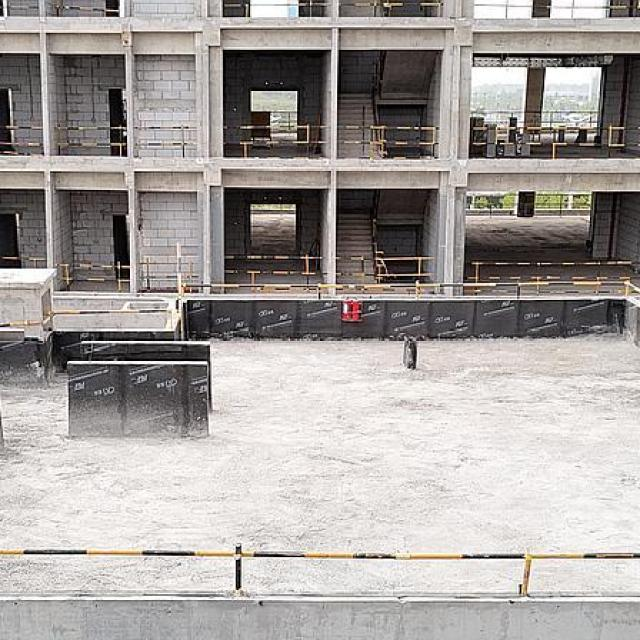Guardrail: (1, 546, 639, 598), (181, 278, 640, 302), (471, 125, 626, 158), (0, 308, 173, 333), (335, 254, 435, 297), (465, 260, 639, 283), (337, 121, 437, 160), (222, 122, 329, 158), (224, 252, 327, 285), (52, 126, 127, 157), (56, 261, 131, 292), (132, 125, 198, 158), (224, 0, 334, 19), (338, 0, 442, 20), (474, 2, 640, 12), (138, 262, 198, 289), (464, 192, 519, 214), (541, 110, 599, 127), (533, 193, 591, 210), (471, 109, 526, 124), (53, 4, 120, 14), (1, 255, 48, 268), (0, 141, 44, 148), (0, 124, 43, 130)
